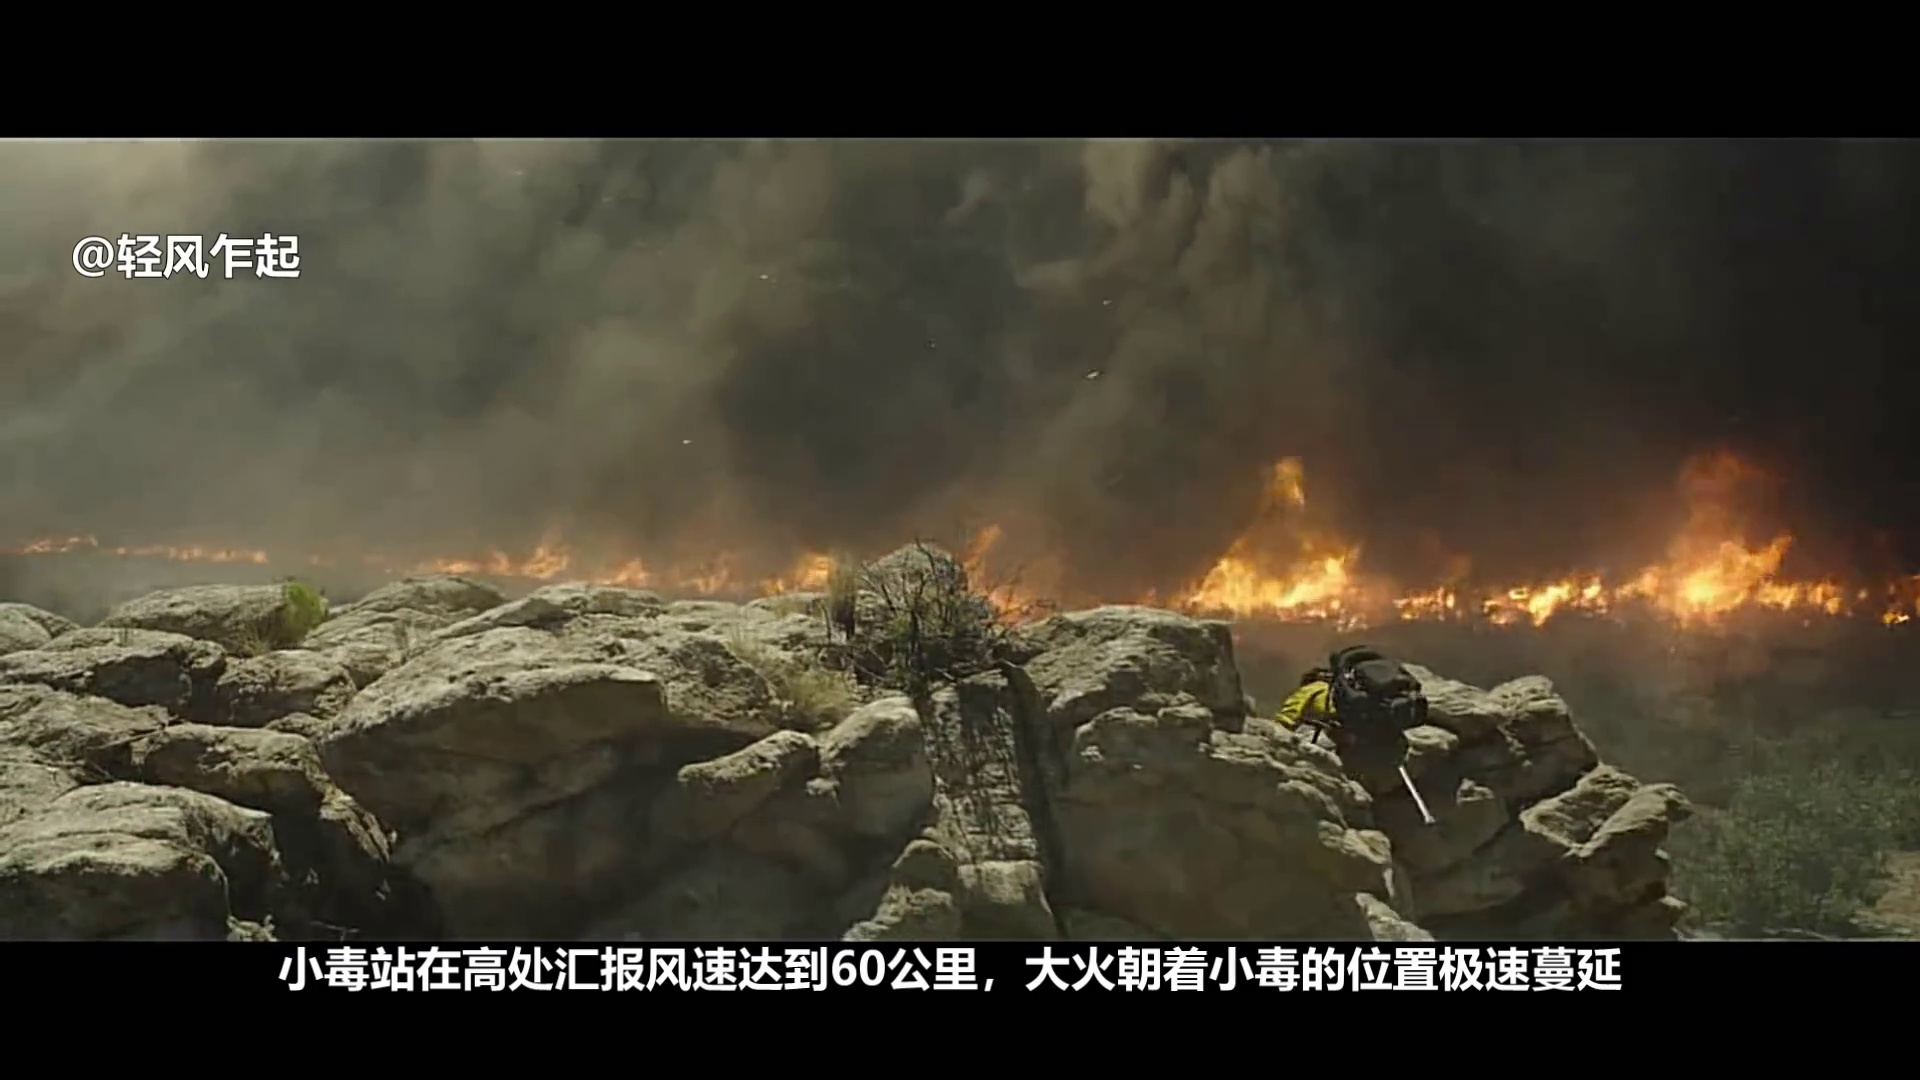fire: (1639, 554, 1803, 611), (1199, 556, 1353, 615), (1527, 591, 1557, 618)
